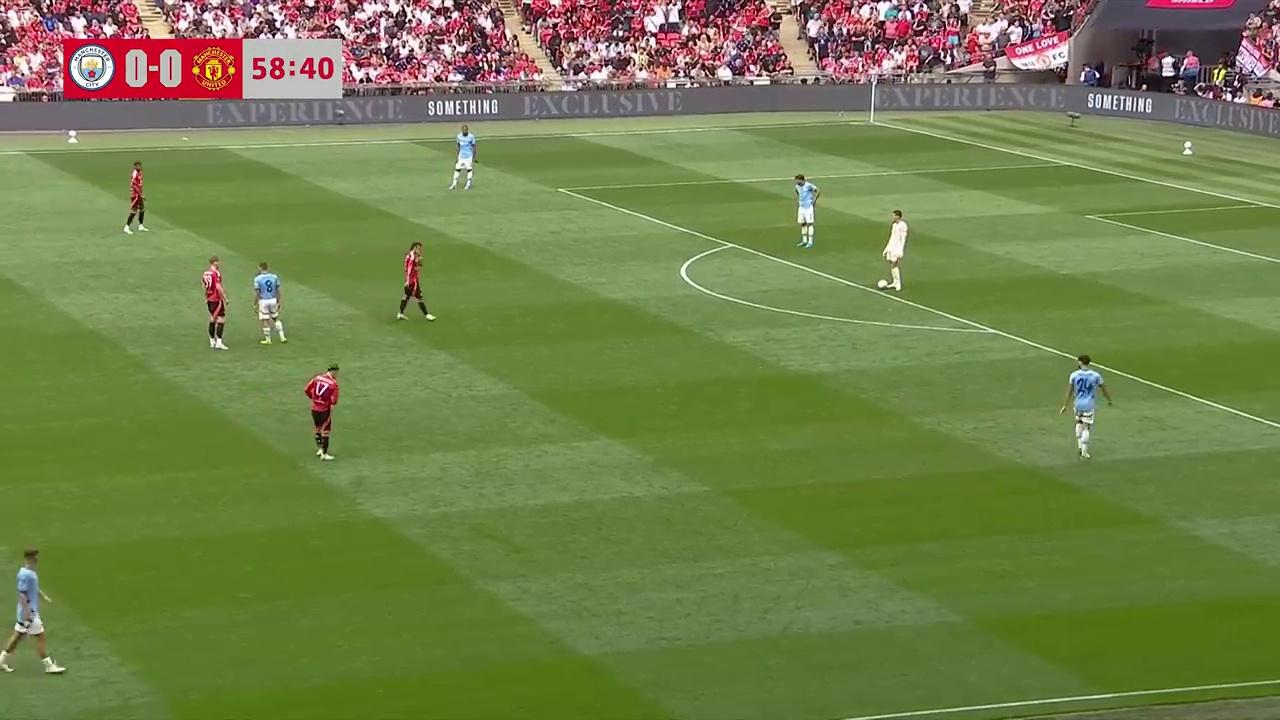ball: (877, 277, 890, 291)
player: (0, 546, 60, 673), (1059, 351, 1110, 460), (303, 366, 339, 461), (394, 240, 434, 321), (253, 260, 286, 345), (201, 255, 228, 351), (881, 210, 907, 292), (794, 174, 819, 249), (123, 161, 147, 234), (449, 129, 476, 191)
